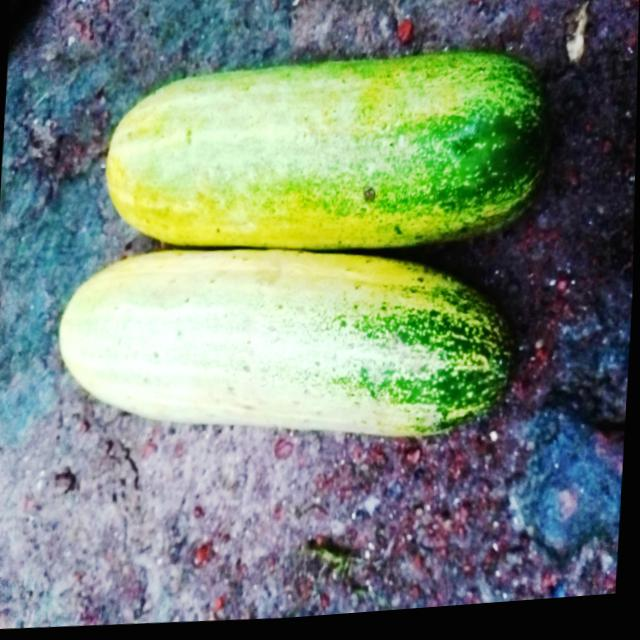Fresh-Cucumber: (49, 223, 524, 473), (98, 36, 559, 277)
